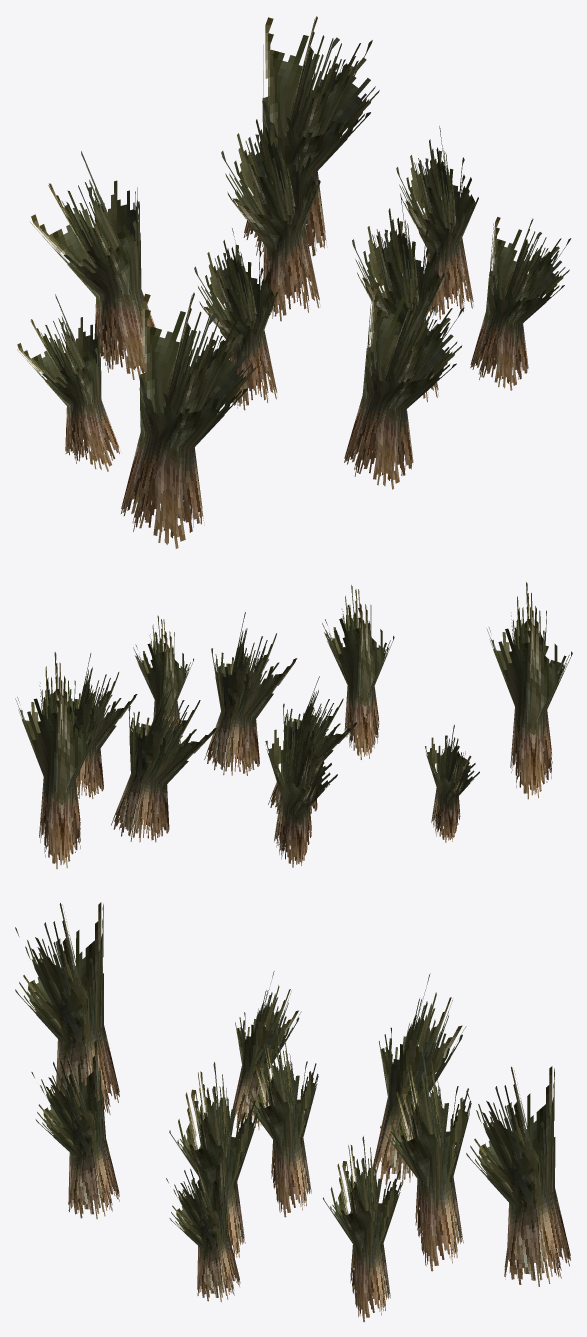
File: Tree10.glb
3 views of the same model, one above another, from view 1: azimuth 30°, elevation 25°; view 2: azimuth 150°, elevation 25°; view 3: azimuth 270°, elevation 25° (orthographic). The views are drawn at different scales.
Visible parts, largest first — view 1: Tree10; view 2: Tree10; view 3: Tree10.
Boxes of the visible parts, box(x1,y1,x2,y2) form: Tree10: box(17, 16, 571, 548); Tree10: box(15, 582, 572, 869); Tree10: box(15, 902, 570, 1322).
Bounding box in the file's own units: 3.34 × 1.59 × 3.54.
Materials: 1 (1 with a texture image).
